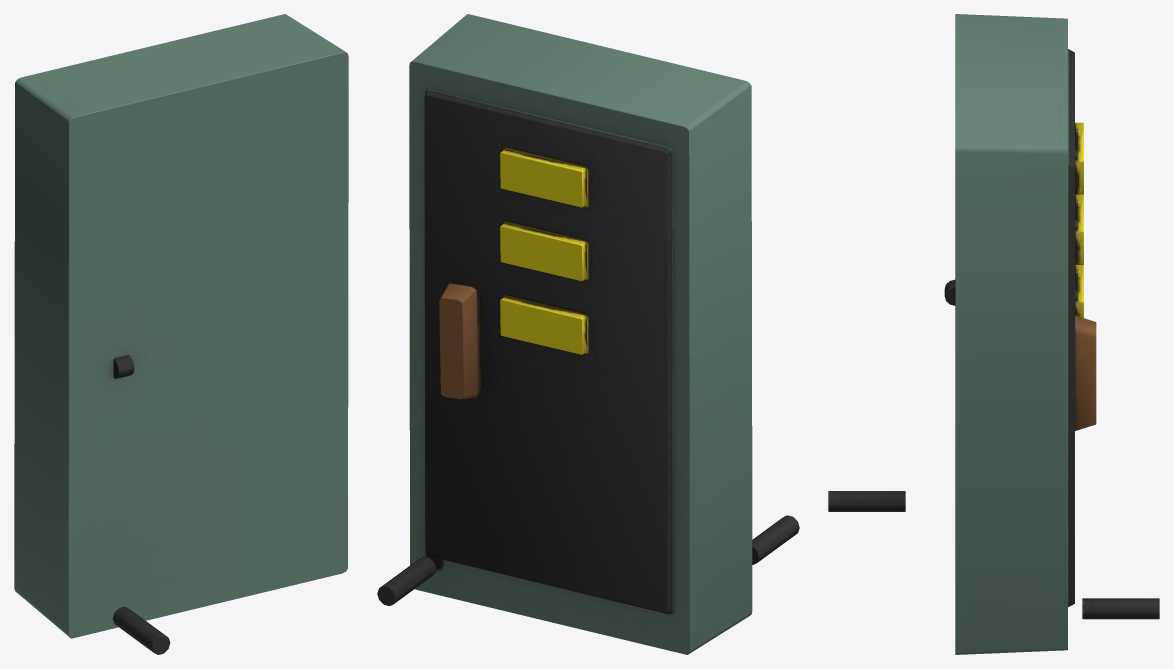
File: LV_breaker_cabinet.glb
The picture shows the model from 3 angles, left to right: view 1: azimuth 30°, elevation 25°; view 2: azimuth 150°, elevation 25°; view 3: azimuth 270°, elevation 25°; orthographic projection. The views are drawn at different scales.
Parts seen in each view (by area): view 1: LV_breaker_cabinet; view 2: LV_breaker_cabinet; view 3: LV_breaker_cabinet.
Boxes of the visible parts, x1,y1,x2,y2 form: LV_breaker_cabinet: (14, 14, 348, 654); LV_breaker_cabinet: (377, 14, 799, 654); LV_breaker_cabinet: (828, 14, 1159, 654).
Bounding box in the file's own units: 0.8999 × 1.6 × 0.94.
1 material, 1 textured.
